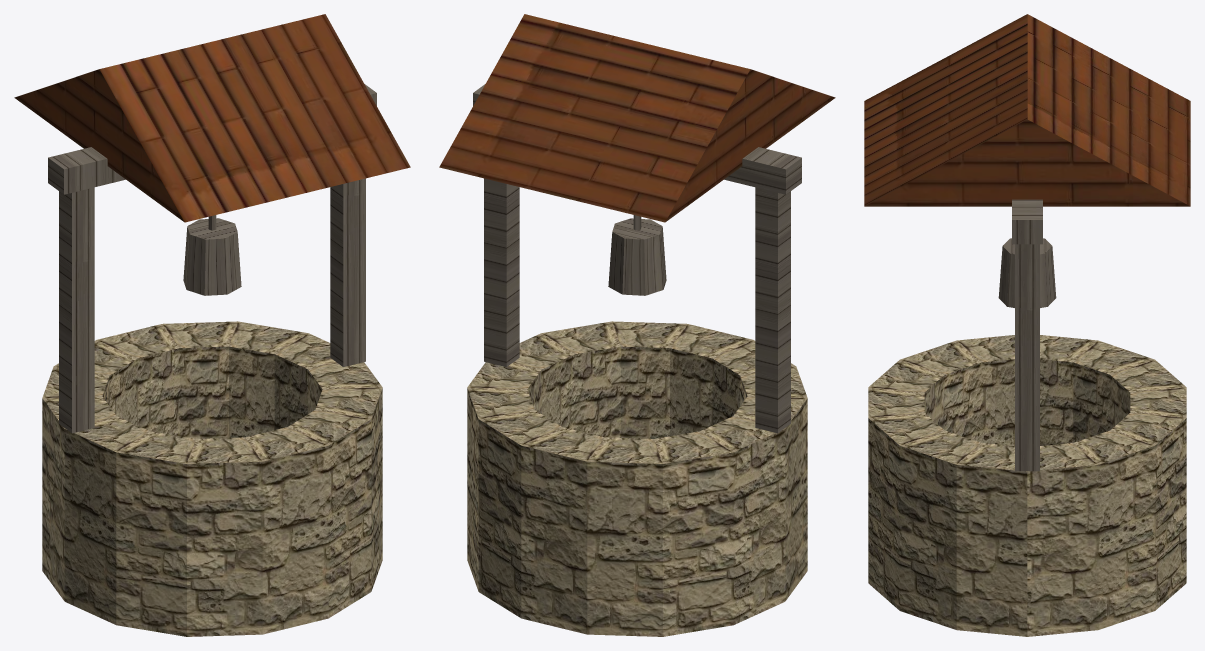
The model's file is well_01.glb.
The picture shows the model from 3 angles, left to right: view 1: azimuth 30°, elevation 25°; view 2: azimuth 150°, elevation 25°; view 3: azimuth 270°, elevation 25°; orthographic projection. The views are drawn at different scales.
Visible parts, largest first — view 1: well_01; view 2: well_01; view 3: well_01.
Boxes of the visible parts, bbox=[...] form: well_01: bbox=[14, 14, 410, 636]; well_01: bbox=[439, 14, 835, 636]; well_01: bbox=[864, 14, 1190, 636].
Bounding box in the file's own units: 1.8 × 2.88 × 1.7.
3 materials, 3 textured.
